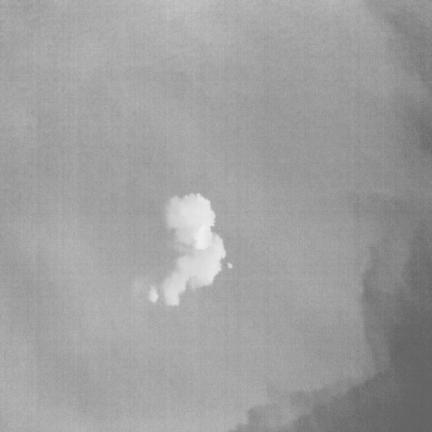flukeprints: (163, 233, 225, 305), (167, 193, 215, 250)
